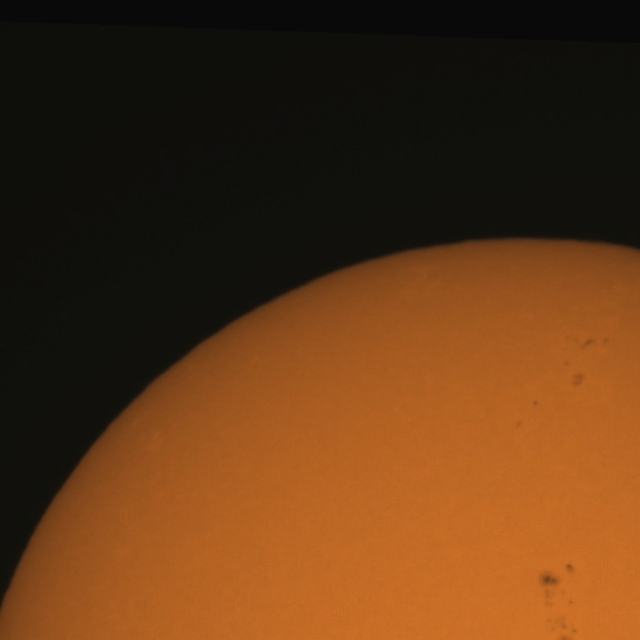sunspot: (536, 564, 574, 611), (544, 612, 578, 640), (564, 358, 586, 388), (580, 336, 609, 350), (568, 370, 586, 390), (564, 562, 574, 574), (532, 399, 540, 407)
